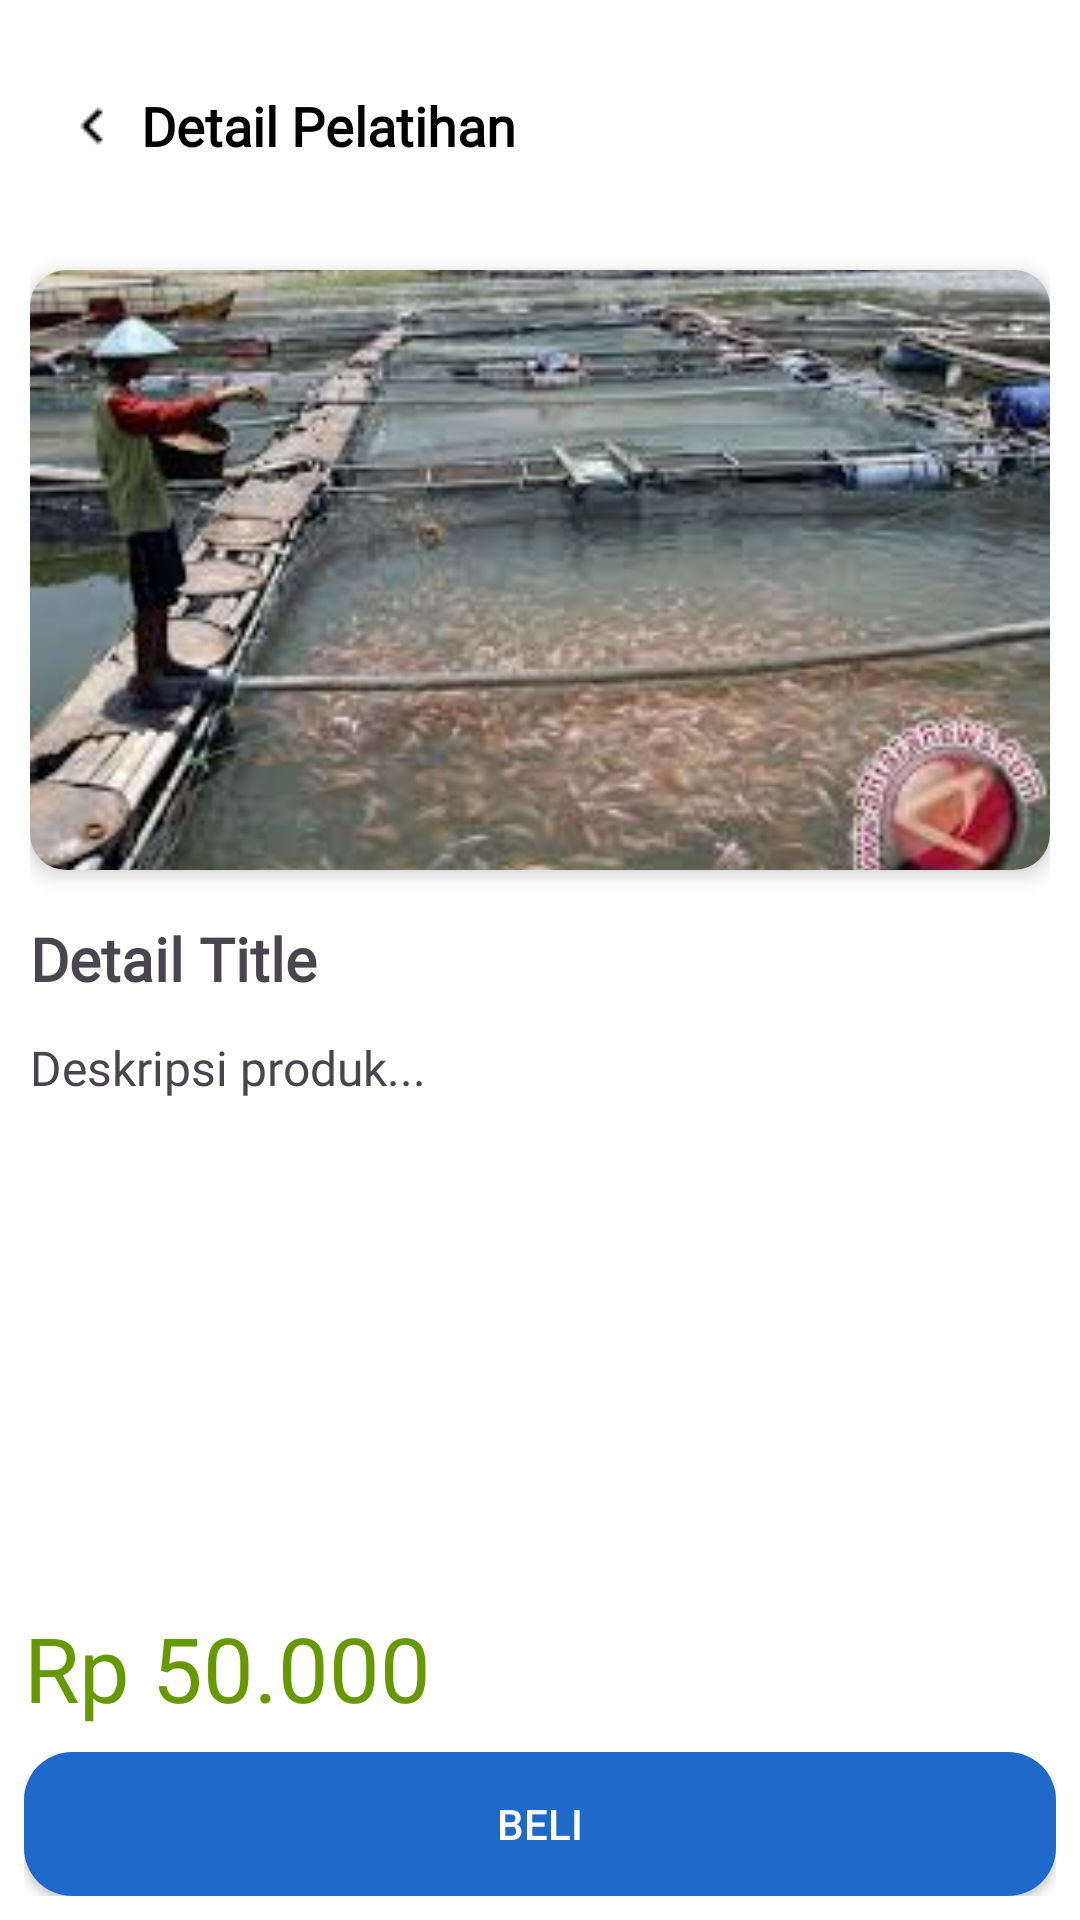

Point at icon controls on the screen. Image size 1080px×1920px, points as (x=x, y=y).
Kembali: (x=91, y=126)
